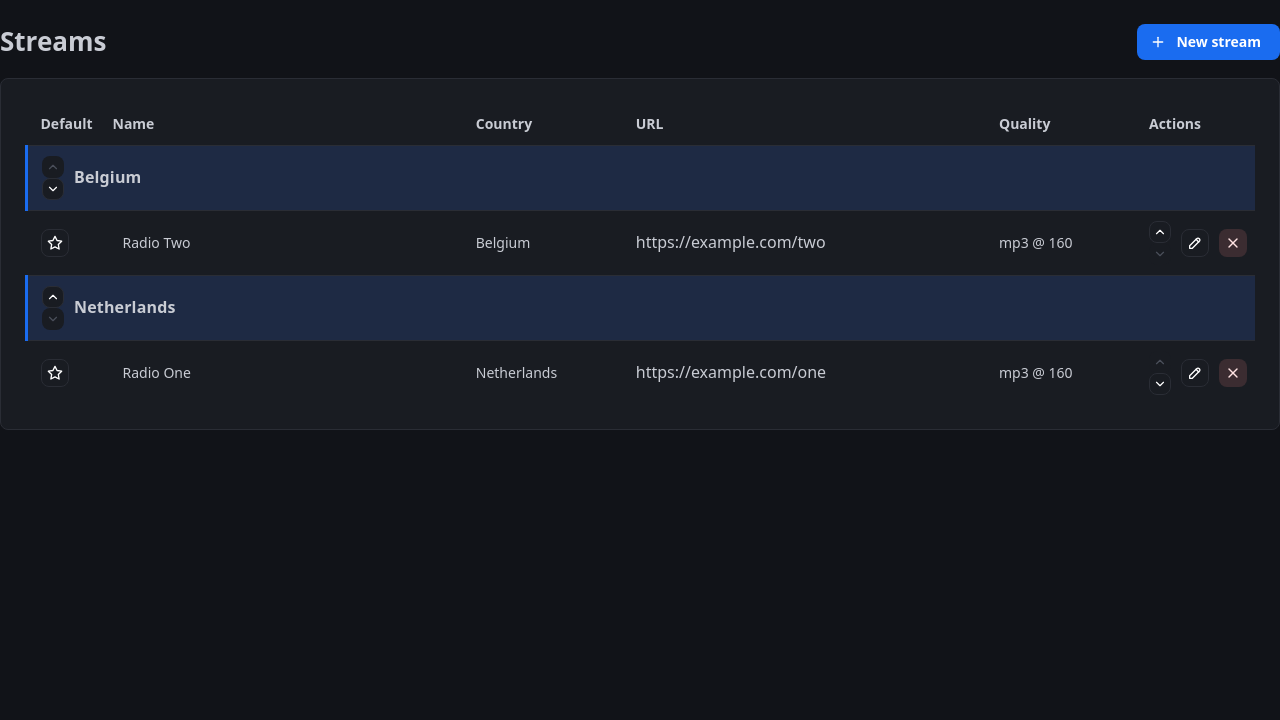
StreamTable › surfaces a 409 'recording right now' when the delete is refused
Check: the text "Radio One" is shown, box 98,340 -> 462,405
Click the button named "Delete Radio One": x=1233, y=373 1219,359 -> 1247,387
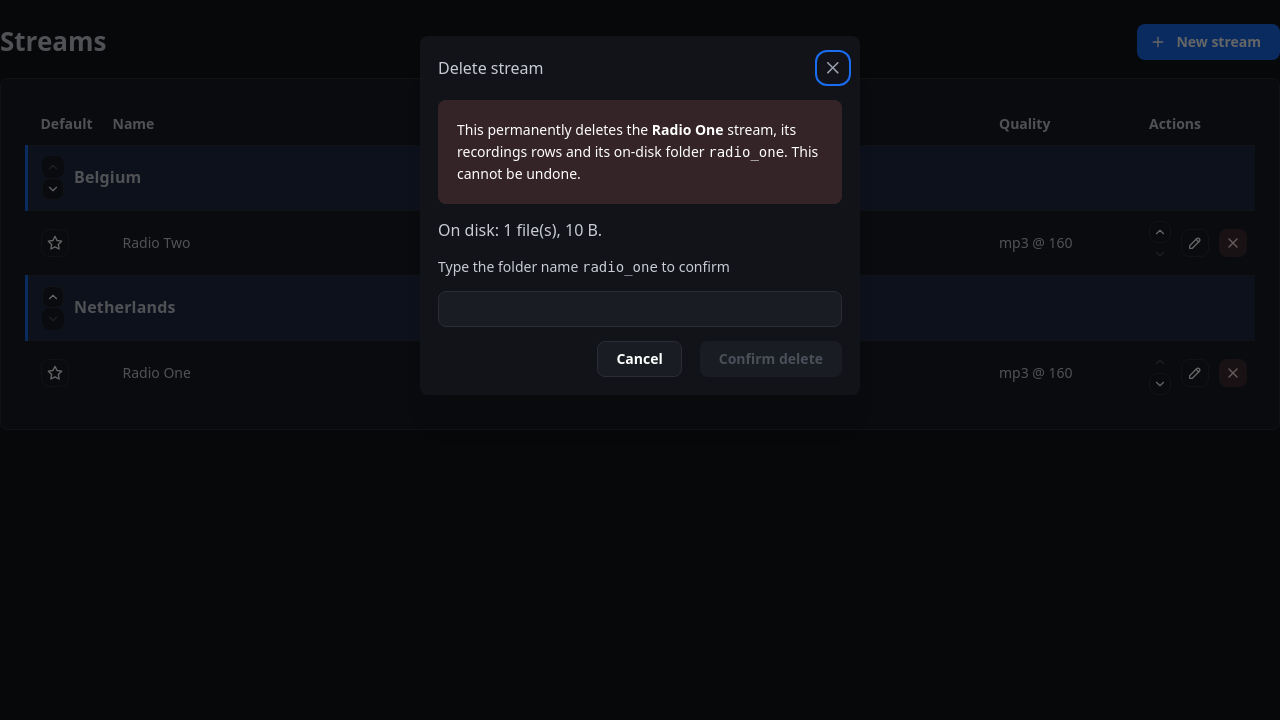
Check: the text "On disk: 1 file(s), 10 B." is shown, box 438,219 -> 602,241
In the field named "Type folder name to confirm delete": x=640, y=309 438,291 -> 842,327, type "radio_one"
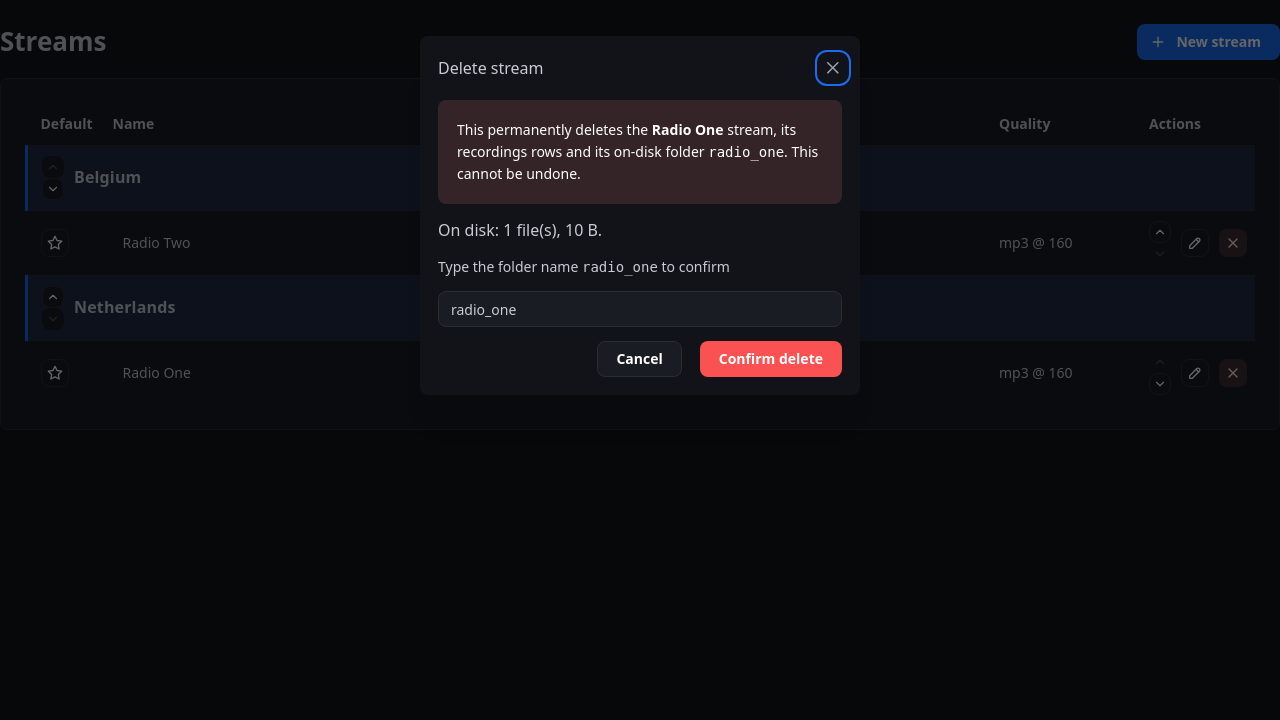
Click the button "Confirm delete": x=771, y=359 700,341 -> 842,377
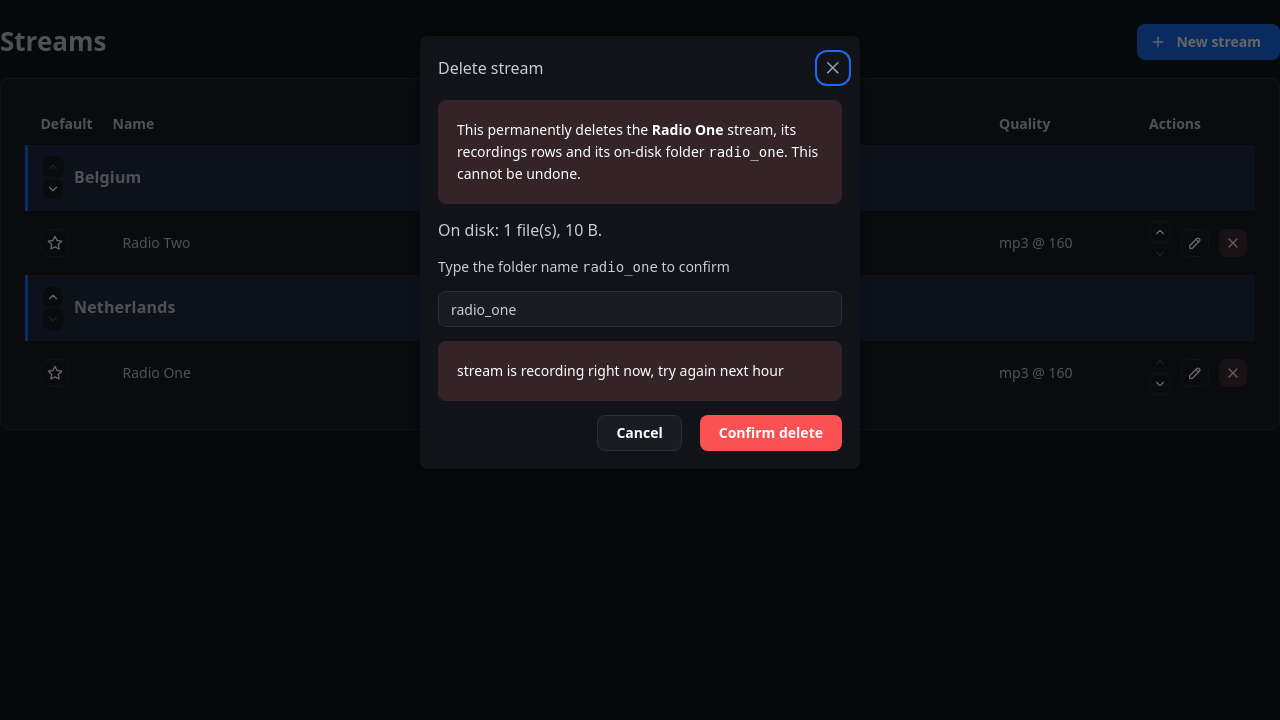
Check: the text "stream is recording right now, try again next hour" is shown, box 457,360 -> 823,382
